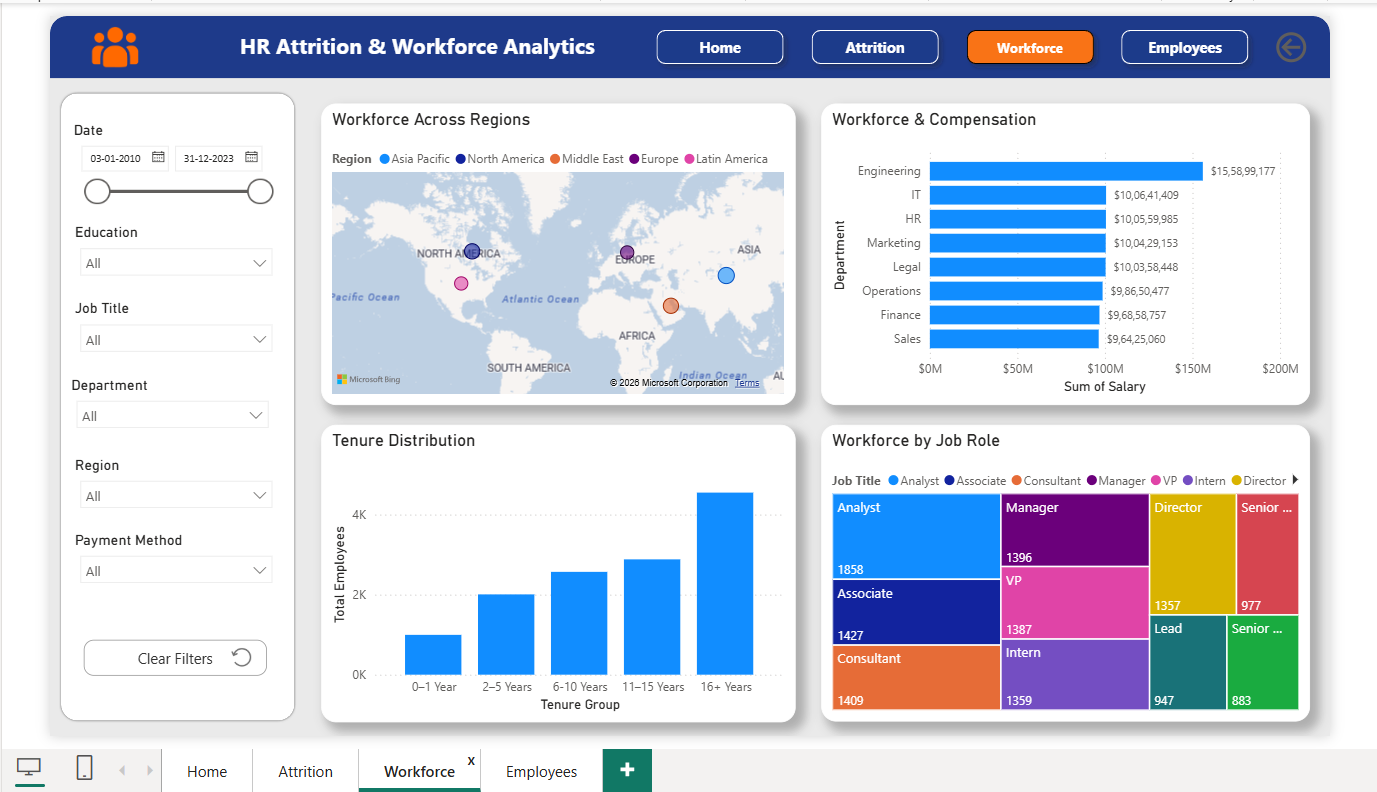

What the dashboard file says about the page in this screenshot:
{"tool":"powerbi","page":{"name":"Workforce","canvas":[1280,720],"ordinal":2},"visuals":[{"type":"shape","box":[0,0,1280,62.5],"z":0},{"type":"image","box":[8.8,7.5,112.5,47.5],"z":1000},{"type":"textbox","box":[165,7.5,423.8,97.5],"z":2000},{"type":"pageNavigator","box":[597.5,5,613.8,52.5],"z":3000},{"type":"map","title":"Workforce Across Regions","fields":{"Size":["MeasuresT.Total Employees"],"Category":["Dim_Region.Region"],"Series":["Dim_Region.Region"]},"box":[271.3,87.7,474.4,301.9],"z":4000},{"type":"clusteredColumnChart","title":"Tenure Distribution","fields":{"Category":["Fact_Employee_Attrition.Tenure Group"],"Y":["MeasuresT.Total Employees"]},"box":[271.3,409,474,297.7],"z":5000},{"type":"treemap","title":"Workforce by Job Role","fields":{"Group":["Dim_Job_Title.Job_Title"],"Values":["MeasuresT.Total Employees"]},"box":[770.9,409,488.6,296.8],"z":6000},{"type":"barChart","title":"Workforce & Compensation","fields":{"Y":["Sum(Fact_Employee_Attrition.Salary)"],"Category":["Dim_Department.Department"]},"box":[770.9,88.1,488.6,301.6],"z":7000},{"type":"shape","box":[8.3,75.1,237.9,631.7],"z":8000},{"type":"actionButton","box":[1221.2,11.2,58.8,40],"z":9000},{"type":"slicer","title":"Date","fields":{"Values":["Dim_Date.Full_Date"]},"box":[19.3,105,212.5,86.2],"z":10000},{"type":"slicer","title":"Education","fields":{"Values":["Dim_Education.Education"]},"box":[19.5,207.3,212.5,91.2],"z":11000},{"type":"actionButton","box":[33.4,623.3,183.4,36.2],"z":11000,"group":"g1"},{"type":"slicer","title":"Job Title","fields":{"Values":["Dim_Job_Title.Job_Title"]},"box":[19.5,283.8,212.5,91.2],"z":12000},{"type":"slicer","title":"Payment Method","fields":{"Values":["Dim_Payment_Method.Payment_Method"]},"box":[19.5,514.8,212.3,91.7],"z":13000},{"type":"slicer","title":"Region","fields":{"Values":["Dim_Region.Region"]},"box":[19.5,439.7,212.3,91.7],"z":14000},{"type":"slicer","title":"Department","fields":{"Values":["Dim_Department.Department"]},"box":[16.7,360.3,212.5,91.2],"z":15000},{"type":"group","id":"g1","title":"Group 1","box":[33.4,623.3,197.6,36.2],"z":15001},{"type":"image","box":[149.2,630.5,82,20],"z":21000,"group":"g1"}]}

Visuals, with their boxes on the page's 1280x720 design canvas (x1, y1, x2, y2). These are canvas units, not pixel positions in the 1377x792 screenshot, which may show the page scaled, cropped or inside an application window:
shape: [x1=0, y1=0, x2=1280, y2=62]
image: [x1=9, y1=8, x2=121, y2=55]
textbox: [x1=165, y1=8, x2=589, y2=105]
pageNavigator: [x1=598, y1=5, x2=1211, y2=58]
"Workforce Across Regions" map: [x1=271, y1=88, x2=746, y2=390]
"Tenure Distribution" clusteredColumnChart: [x1=271, y1=409, x2=745, y2=707]
"Workforce by Job Role" treemap: [x1=771, y1=409, x2=1260, y2=706]
"Workforce & Compensation" barChart: [x1=771, y1=88, x2=1260, y2=390]
shape: [x1=8, y1=75, x2=246, y2=707]
actionButton: [x1=1221, y1=11, x2=1280, y2=51]
"Date" slicer: [x1=19, y1=105, x2=232, y2=191]
"Education" slicer: [x1=20, y1=207, x2=232, y2=298]
actionButton: [x1=33, y1=623, x2=217, y2=660]
"Job Title" slicer: [x1=20, y1=284, x2=232, y2=375]
"Payment Method" slicer: [x1=20, y1=515, x2=232, y2=606]
"Region" slicer: [x1=20, y1=440, x2=232, y2=531]
"Department" slicer: [x1=17, y1=360, x2=229, y2=452]
"Group 1" group: [x1=33, y1=623, x2=231, y2=660]
image: [x1=149, y1=630, x2=231, y2=650]
